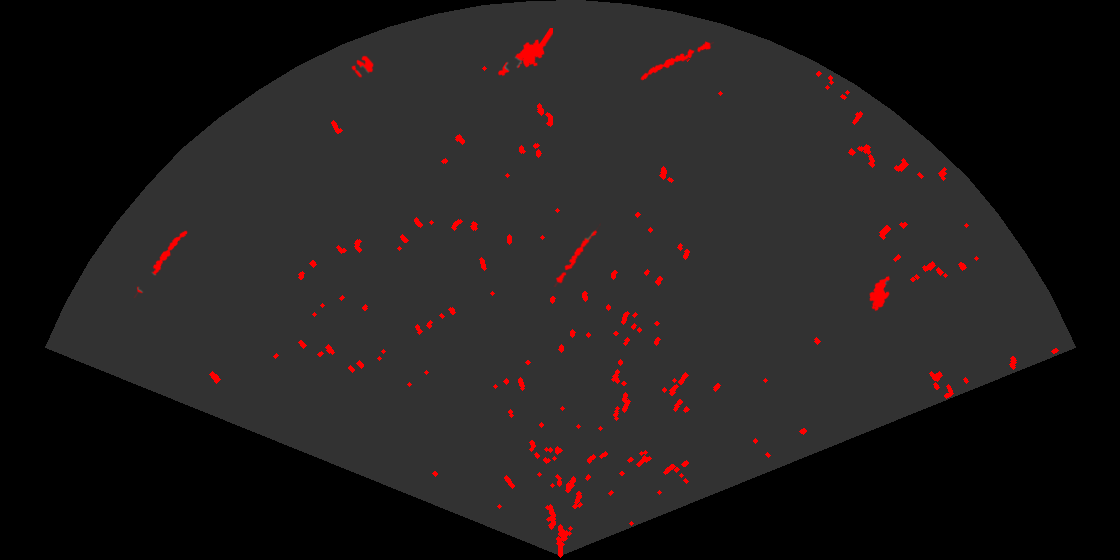AUV: (868, 274, 892, 313)
ball: (350, 54, 375, 79)
chain: (132, 229, 189, 298), (552, 222, 601, 287), (639, 40, 714, 82)
frogman: (496, 28, 553, 78)
